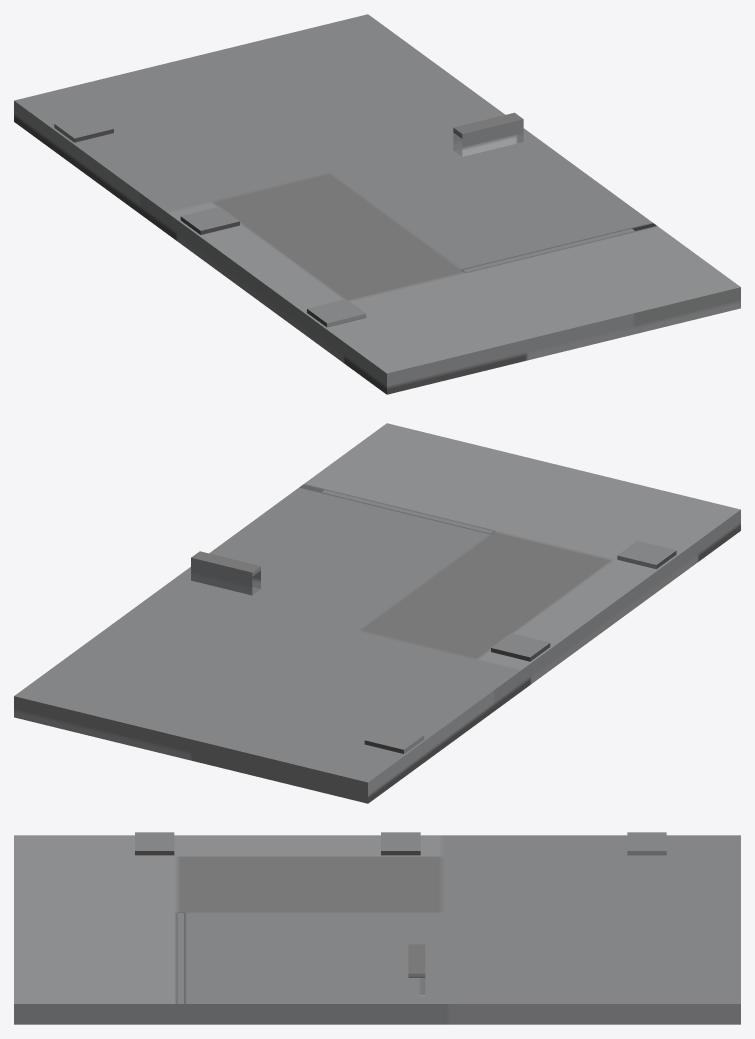
3 views of the same model, one above another, from view 1: azimuth 30°, elevation 25°; view 2: azimuth 150°, elevation 25°; view 3: azimuth 270°, elevation 25° (orthographic). The views are drawn at different scales.
Bounding box in the file's own units: 0.7448 × 0.0944 × 1.36.
